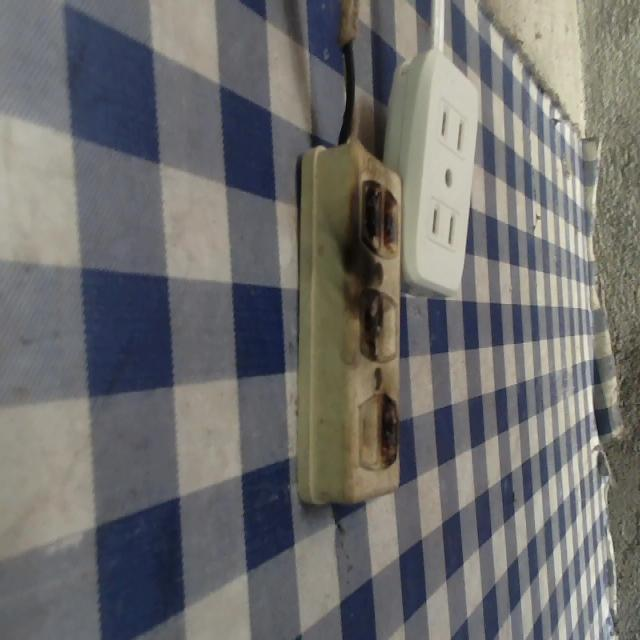-: (354, 168, 406, 265), (352, 287, 385, 360), (376, 391, 404, 468)
